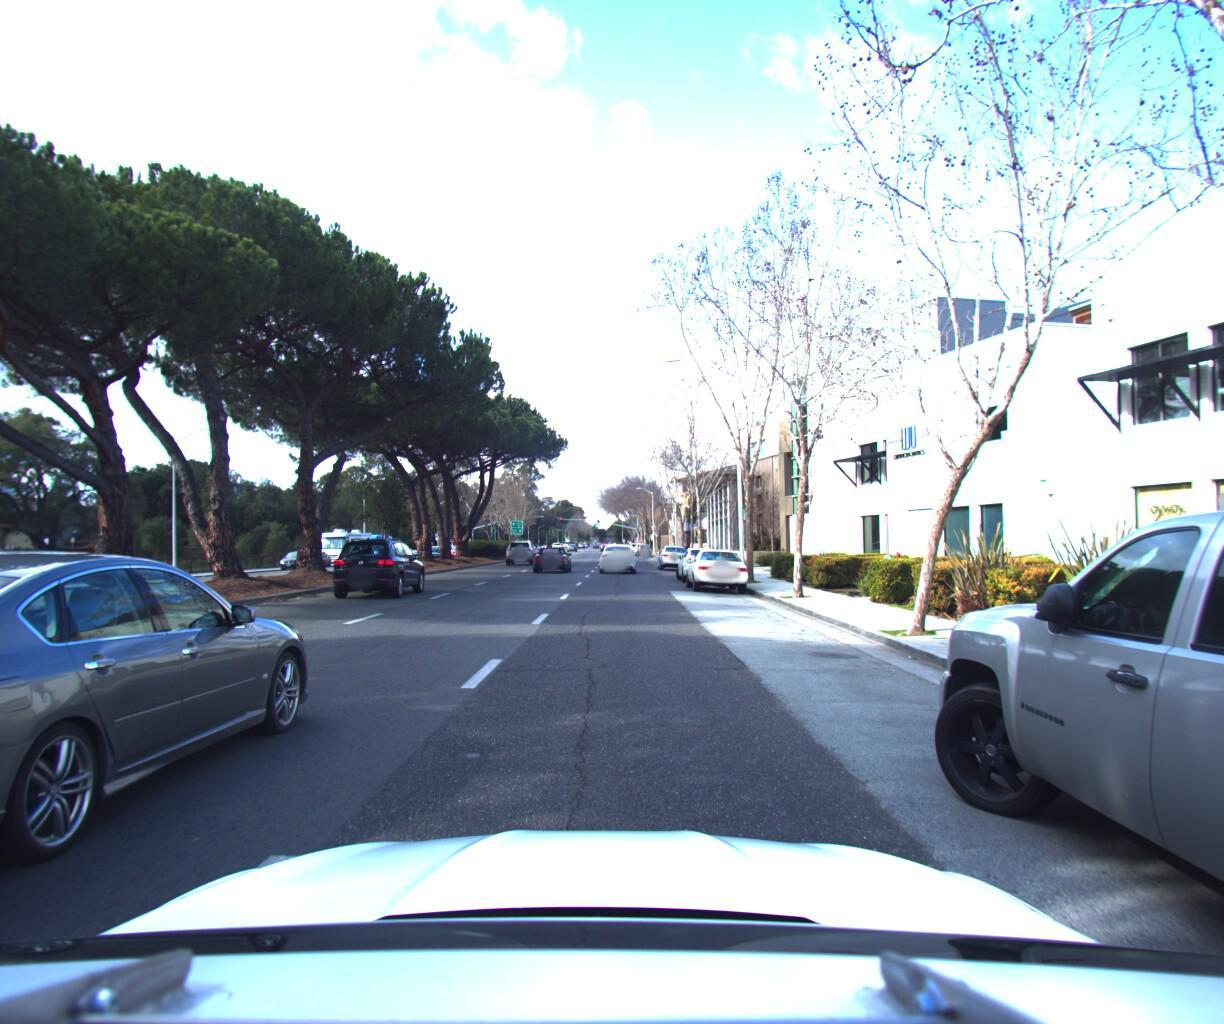car: (919, 179, 1224, 1024), (0, 522, 338, 960), (327, 531, 435, 593), (686, 540, 753, 586), (677, 538, 732, 579), (0, 552, 37, 596), (532, 535, 575, 564), (598, 535, 635, 567), (660, 536, 694, 564), (505, 529, 539, 556), (282, 542, 322, 563)
other_vehicle: (315, 517, 378, 559), (356, 525, 397, 557)
